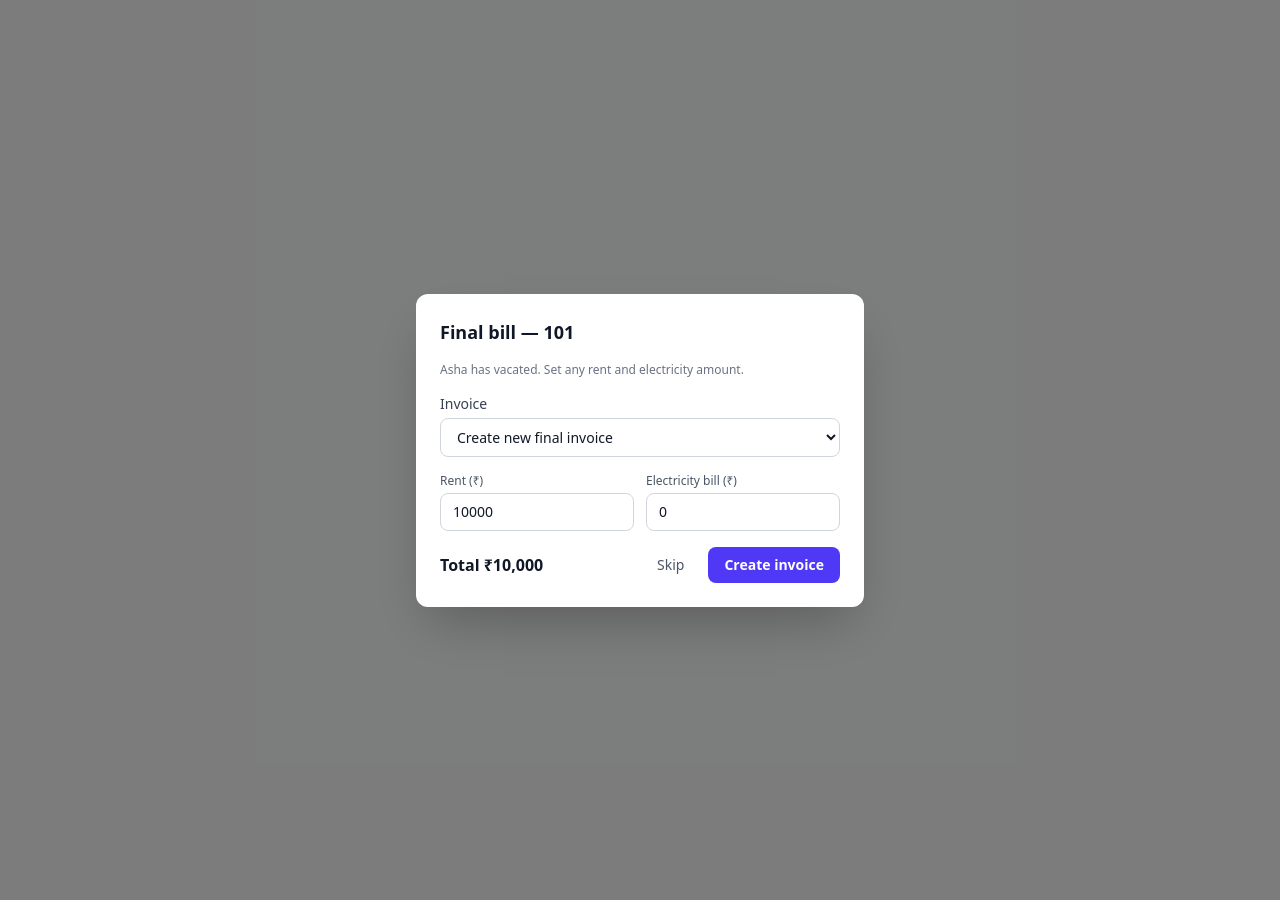
Test case: VacateInvoiceModal › disables saving on negative amounts
Replace the text in the number field labelled "Rent (₹)" with "-5" at (537, 512), box [440, 492, 634, 530]
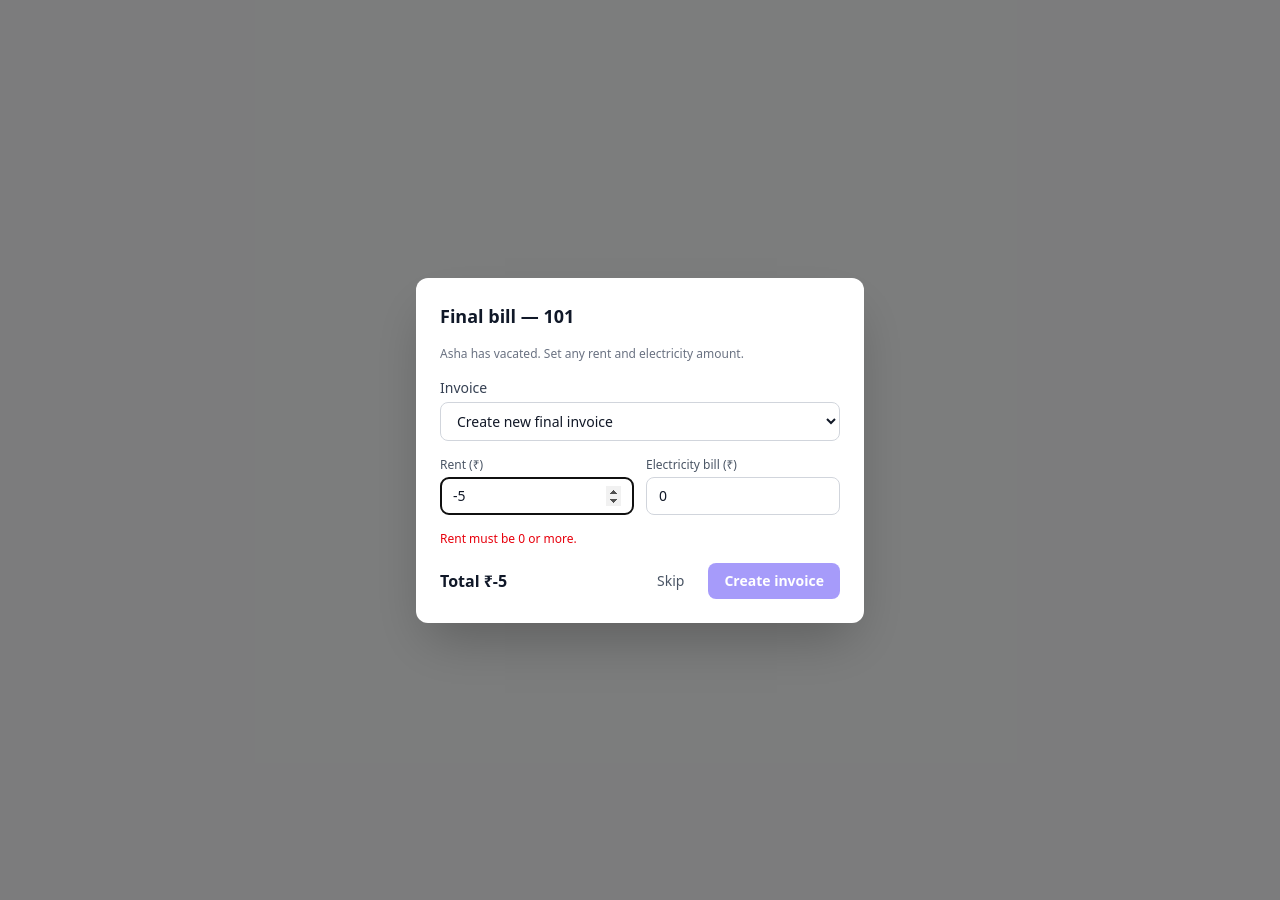
Expected: the button "Create invoice" is disabled, [708, 562, 840, 598]
